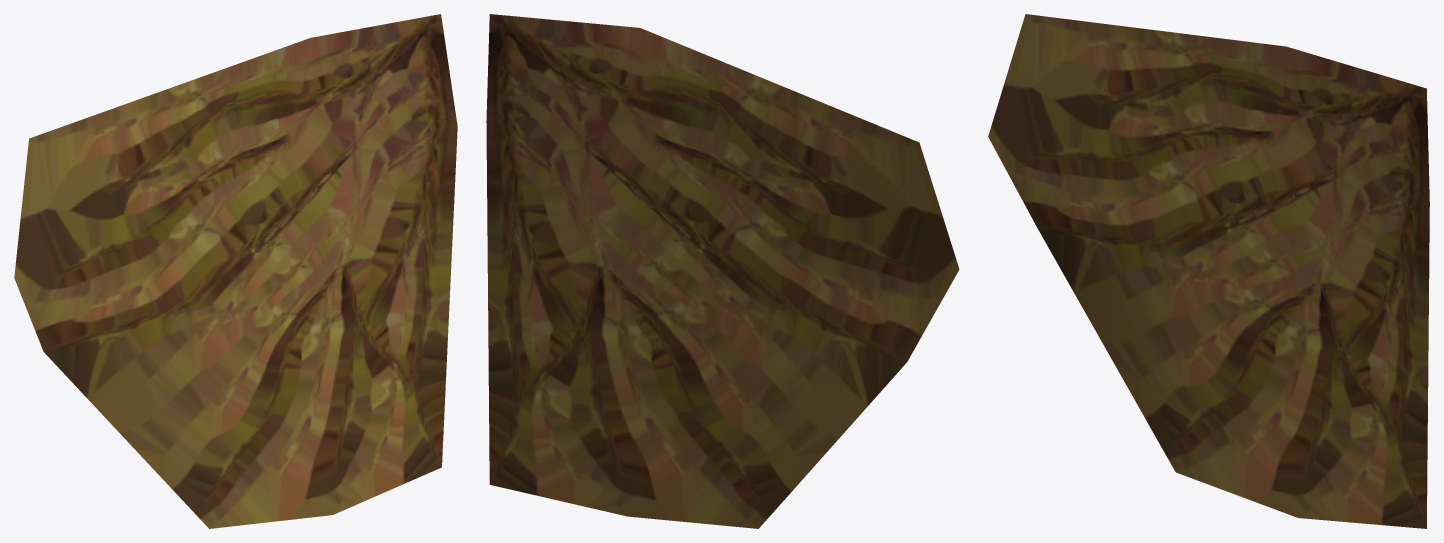
The model's file is Japanese_MG_lowpoly_var8.fbx.
3 renders of one model, left to right at view 1: azimuth 30°, elevation 25°; view 2: azimuth 150°, elevation 25°; view 3: azimuth 330°, elevation 25°, orthographic. The views are drawn at different scales.
Visible parts, largest first — view 1: Japanese_MG_lowpoly_var8_LOD0; view 2: Japanese_MG_lowpoly_var8_LOD0; view 3: Japanese_MG_lowpoly_var8_LOD0.
Boxes of the visible parts, x1,y1,x2,y2 form: Japanese_MG_lowpoly_var8_LOD0: (14,14,457,528); Japanese_MG_lowpoly_var8_LOD0: (486,14,959,528); Japanese_MG_lowpoly_var8_LOD0: (988,14,1429,528).
Size of what is drawn, in the model's own units: 128 by 130 by 6.64.
